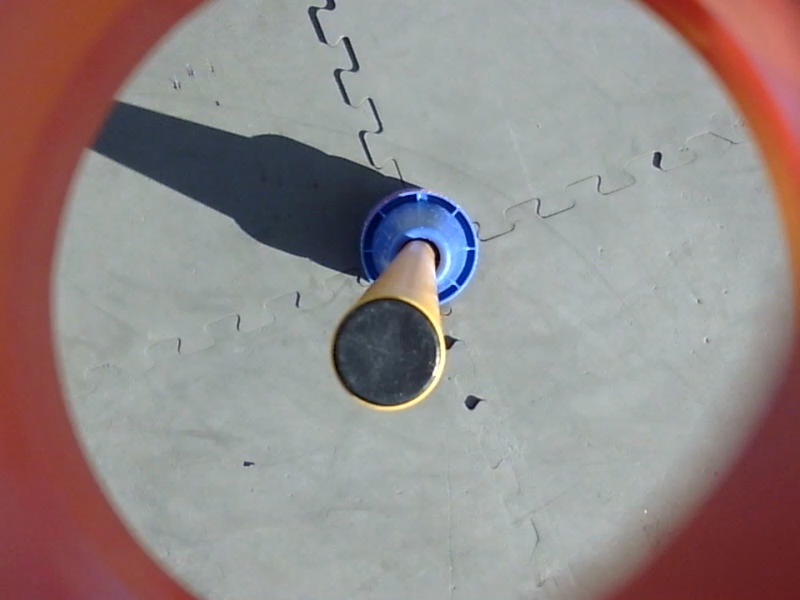tip: (323, 292, 454, 416)
